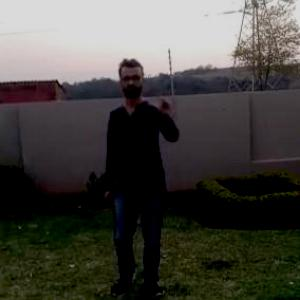land_hand: (151, 88, 178, 124)
